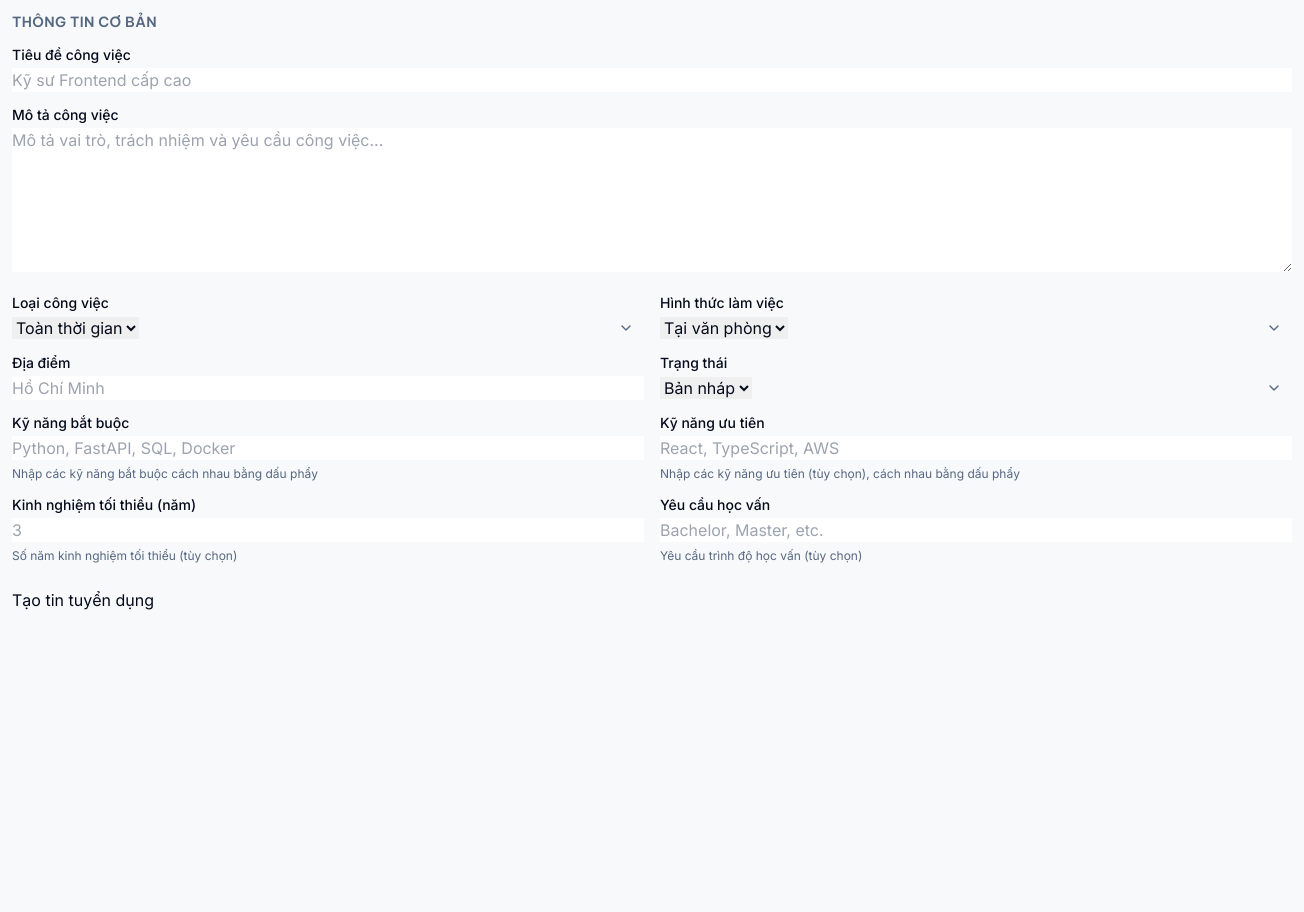
Scenario: JobForm › requires a job description
Type "Senior Frontend Engineer" into the field labelled "Tiêu đề công việc" at (652, 80), box left=12, top=68, right=1292, bottom=92
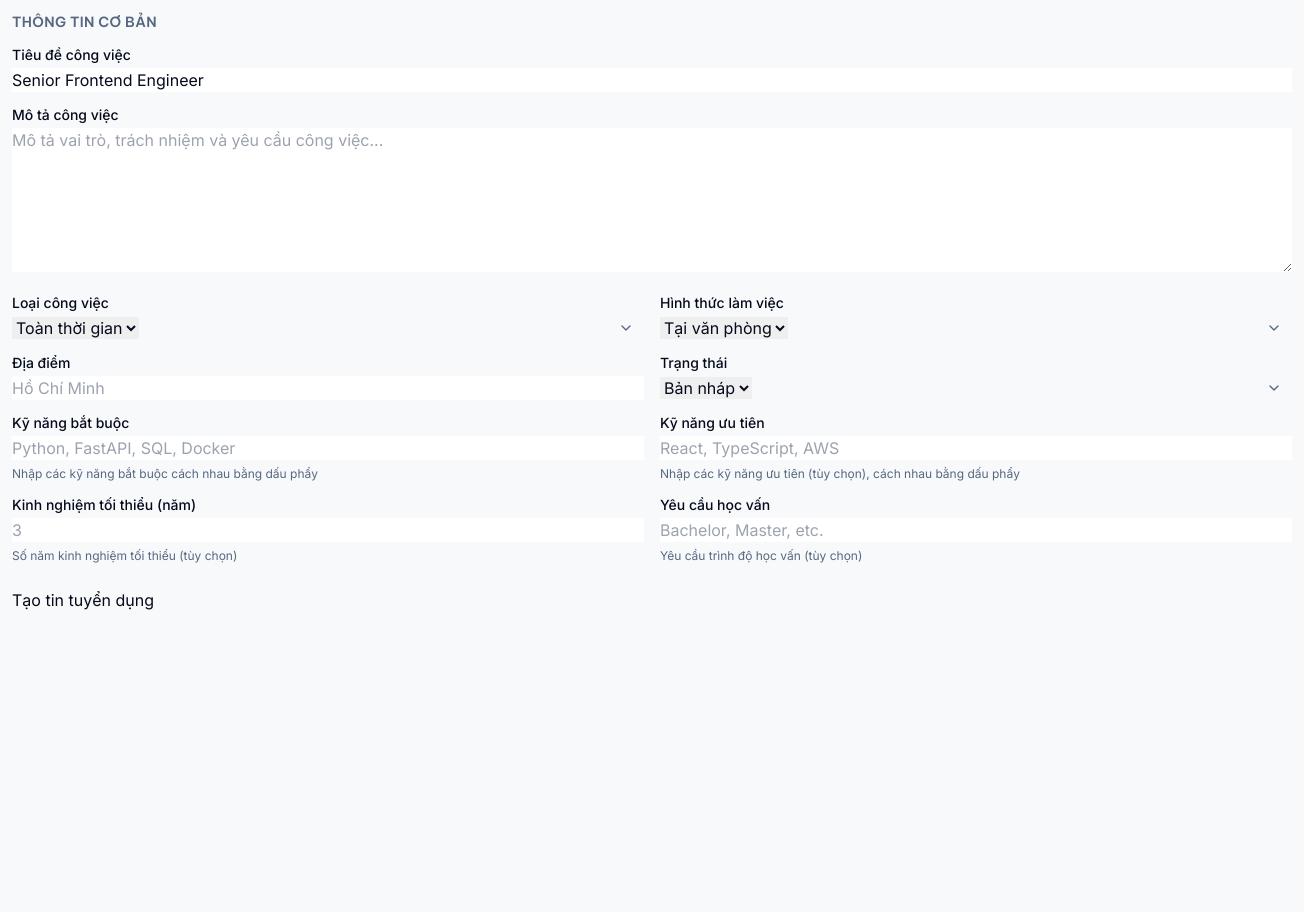
Click the button "Tạo tin tuyển dụng" at (83, 600), box left=12, top=588, right=154, bottom=612
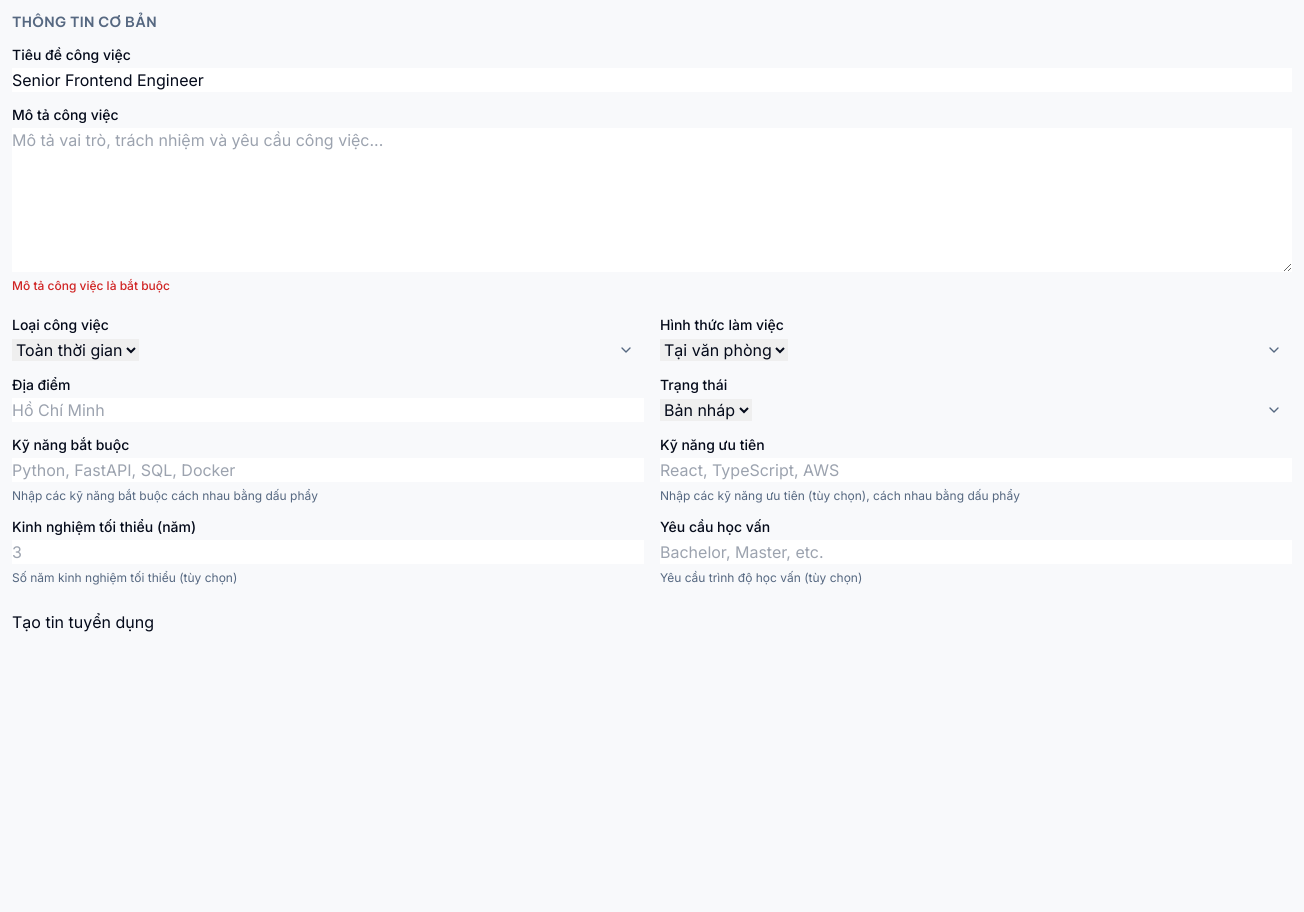
Check: the text "Mô tả công việc là bắt buộc" is shown, box left=12, top=278, right=170, bottom=293
